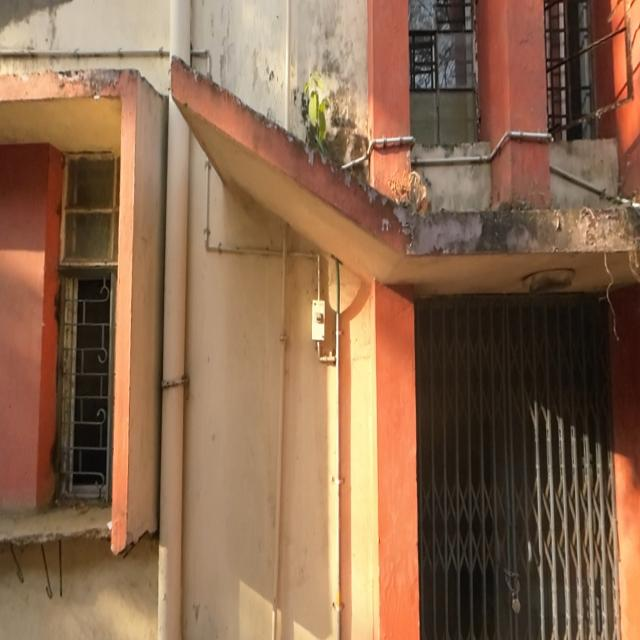Moss growth due to damping: (301, 71, 329, 152)
Spalling: (0, 529, 158, 584)
pollution -moisture induced blackening: (454, 207, 640, 252), (293, 71, 369, 166)
